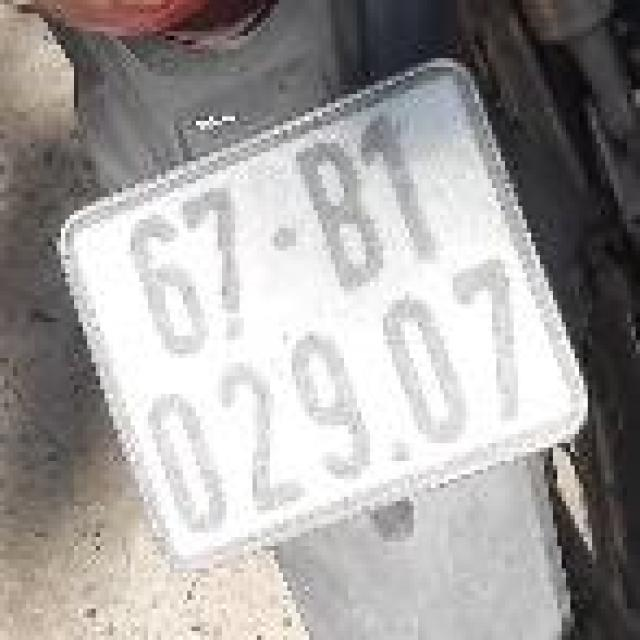0: (369, 283, 484, 453), (134, 383, 241, 545)
1: (351, 107, 453, 277)
2: (206, 350, 317, 518)
6: (109, 201, 222, 374)
7: (443, 250, 556, 437), (181, 174, 282, 348)
9: (281, 322, 393, 491)
B: (291, 130, 403, 306)
